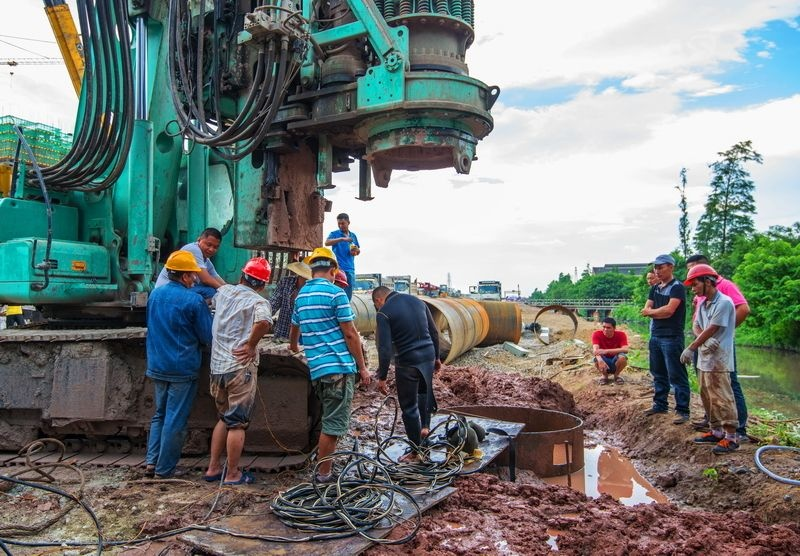blue: (652, 253, 675, 284)
none: (197, 226, 224, 260), (370, 280, 395, 312), (335, 210, 353, 232), (600, 316, 618, 336)
red: (238, 255, 273, 297), (684, 263, 718, 302)
yellow: (162, 246, 199, 288), (306, 244, 342, 285)
